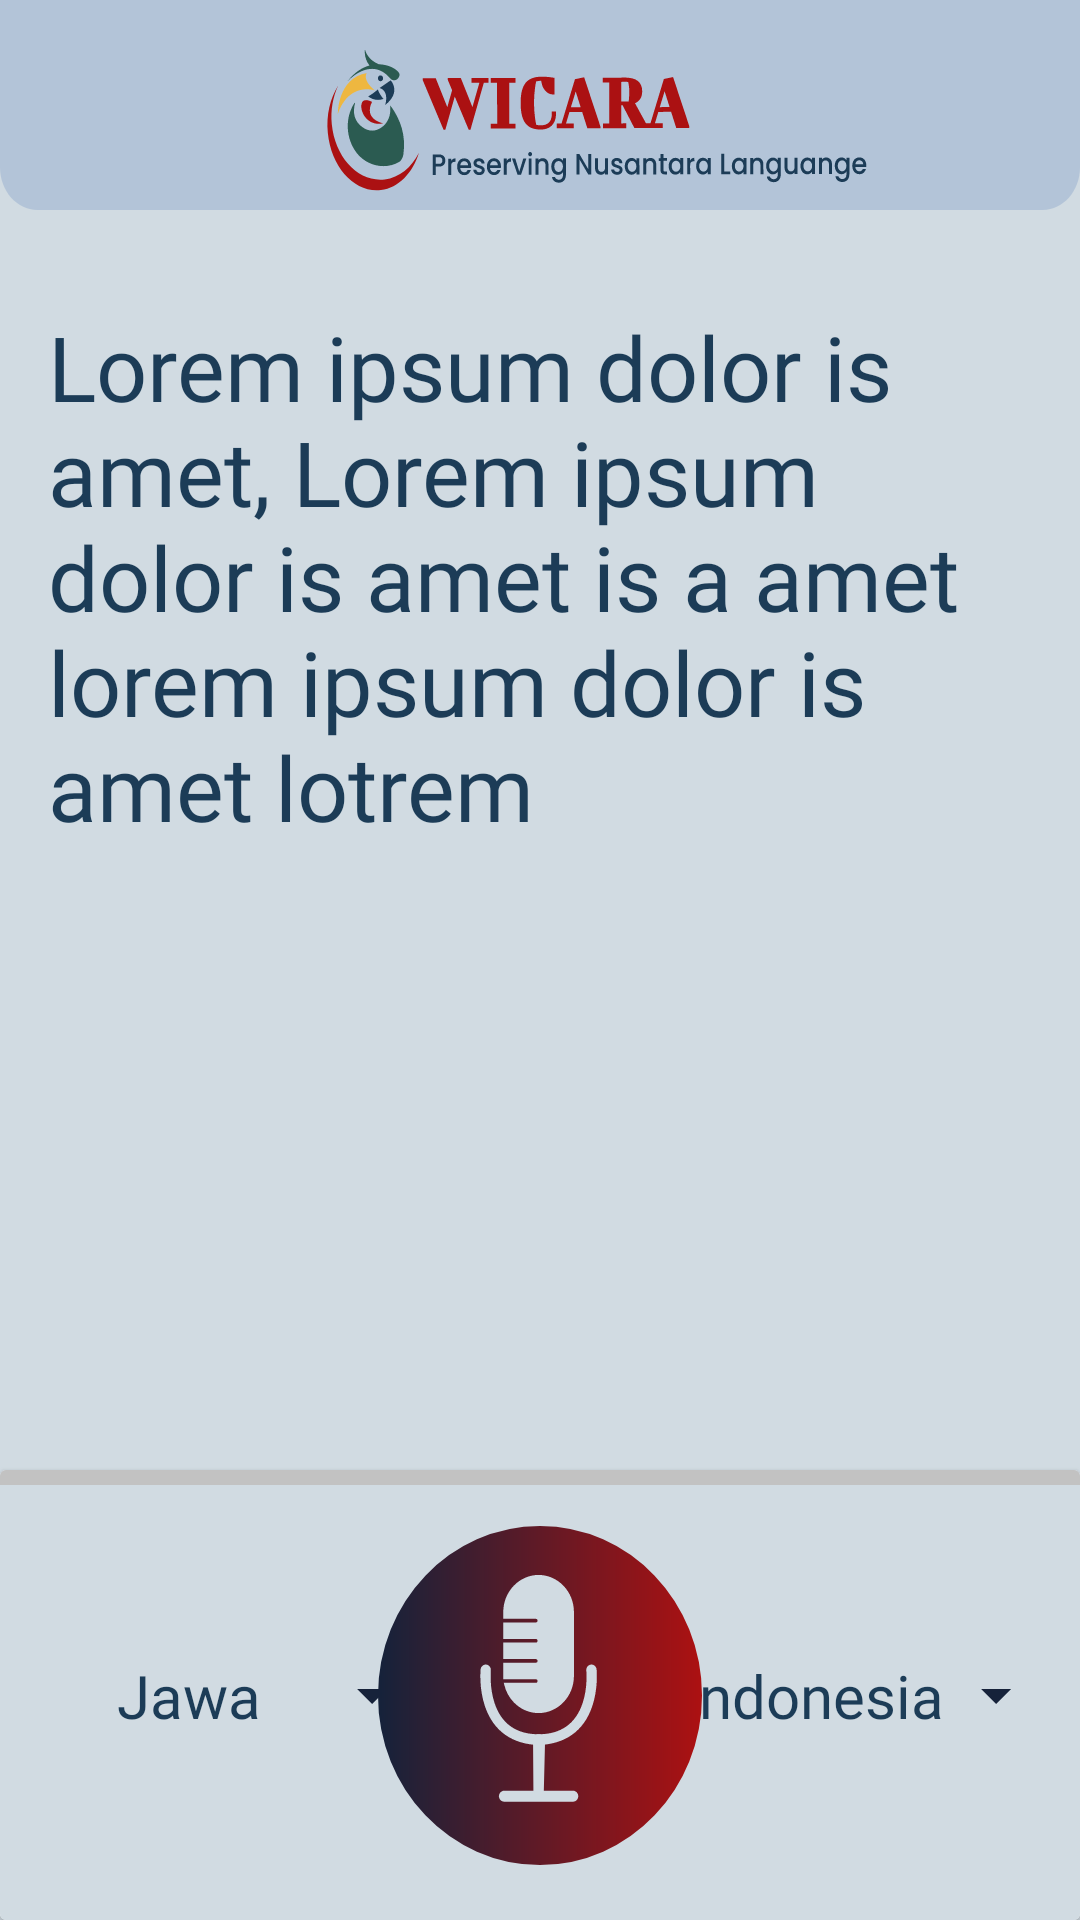

Screen size 1080px×1920px. Icon name, then its center in pixels as (x,y):
micropone: (540,1695)
